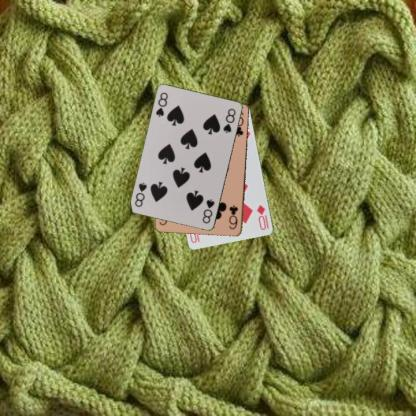10d: (254, 202, 271, 231)
6c: (227, 203, 239, 230)
8s: (200, 196, 216, 225), (153, 90, 169, 119)
